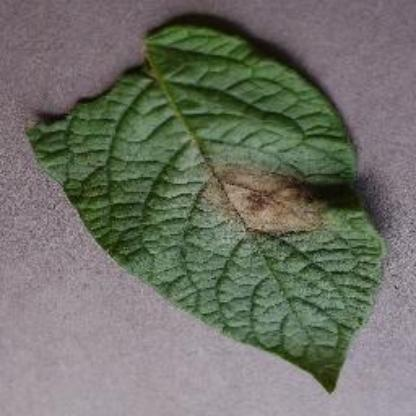Late-Blight: (25, 31, 377, 396)
